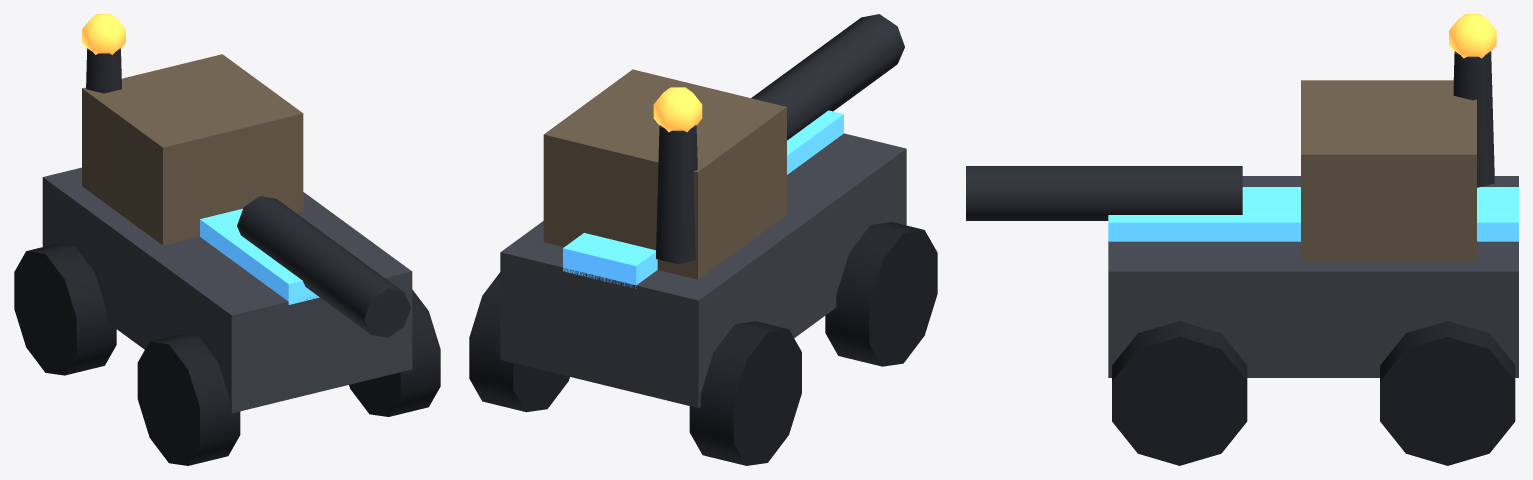
Rendered from cavalry.glb.
3 renders of one model, left to right at view 1: azimuth 30°, elevation 25°; view 2: azimuth 150°, elevation 25°; view 3: azimuth 270°, elevation 25°, orthographic. The views are drawn at different scales.
Parts seen in each view (by area): view 1: cavalry; view 2: cavalry; view 3: cavalry.
Part boxes in pixels (left/top/right/bottom): cavalry: left=14, top=14, right=440, bottom=465; cavalry: left=469, top=14, right=937, bottom=465; cavalry: left=966, top=14, right=1518, bottom=465.
Bounding box in the file's own units: 0.72 × 0.95 × 1.32.
